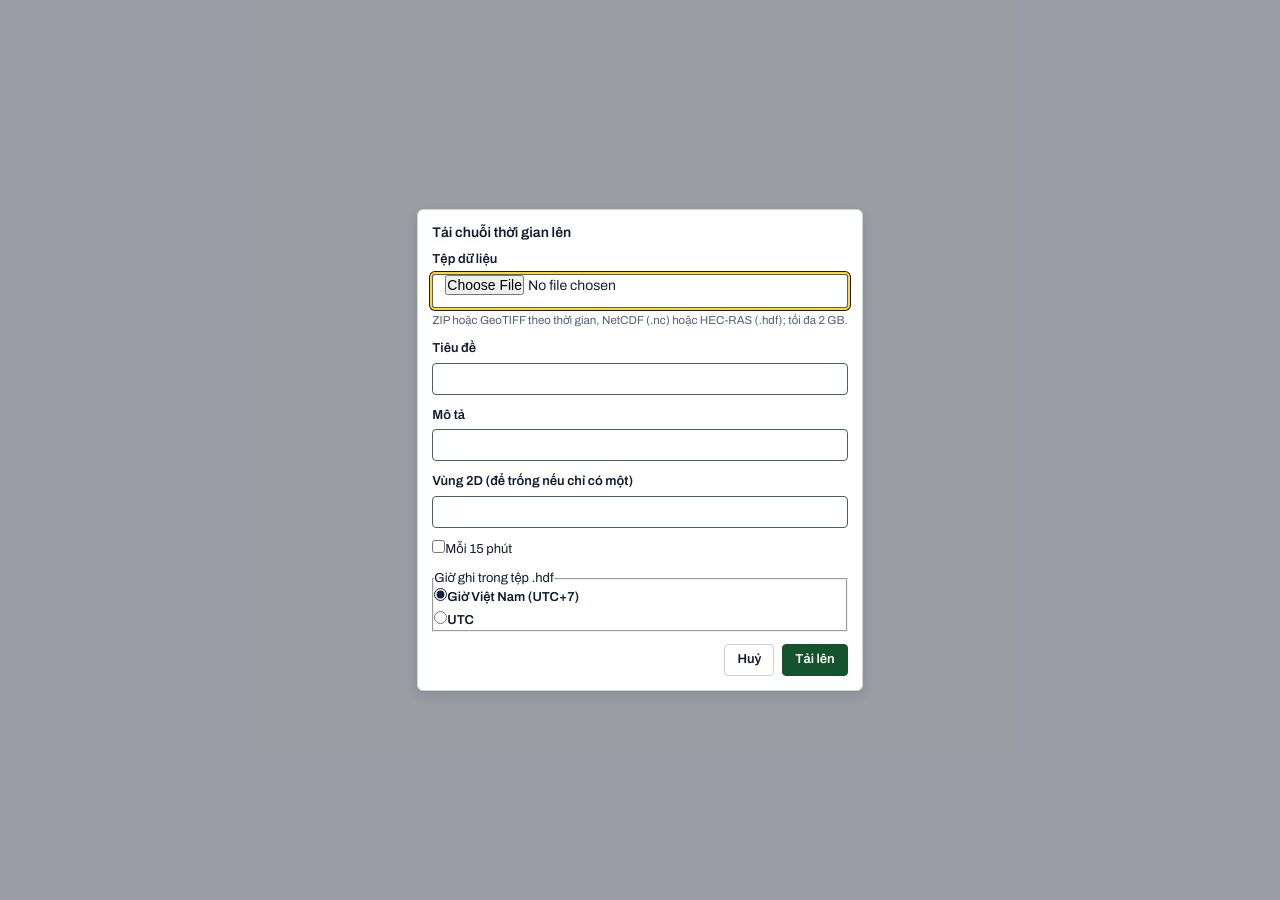
Scenario: TimeseriesUploadDialog › uploads, queues the job with the chosen options, shows progress, then adds the new layer
Earlier steps of the test are not shown.
Type "Lũ" into the field labelled "Tiêu đề".
click(640, 379); type("Lũ")  # box x1=432 y1=363 x2=848 y2=395
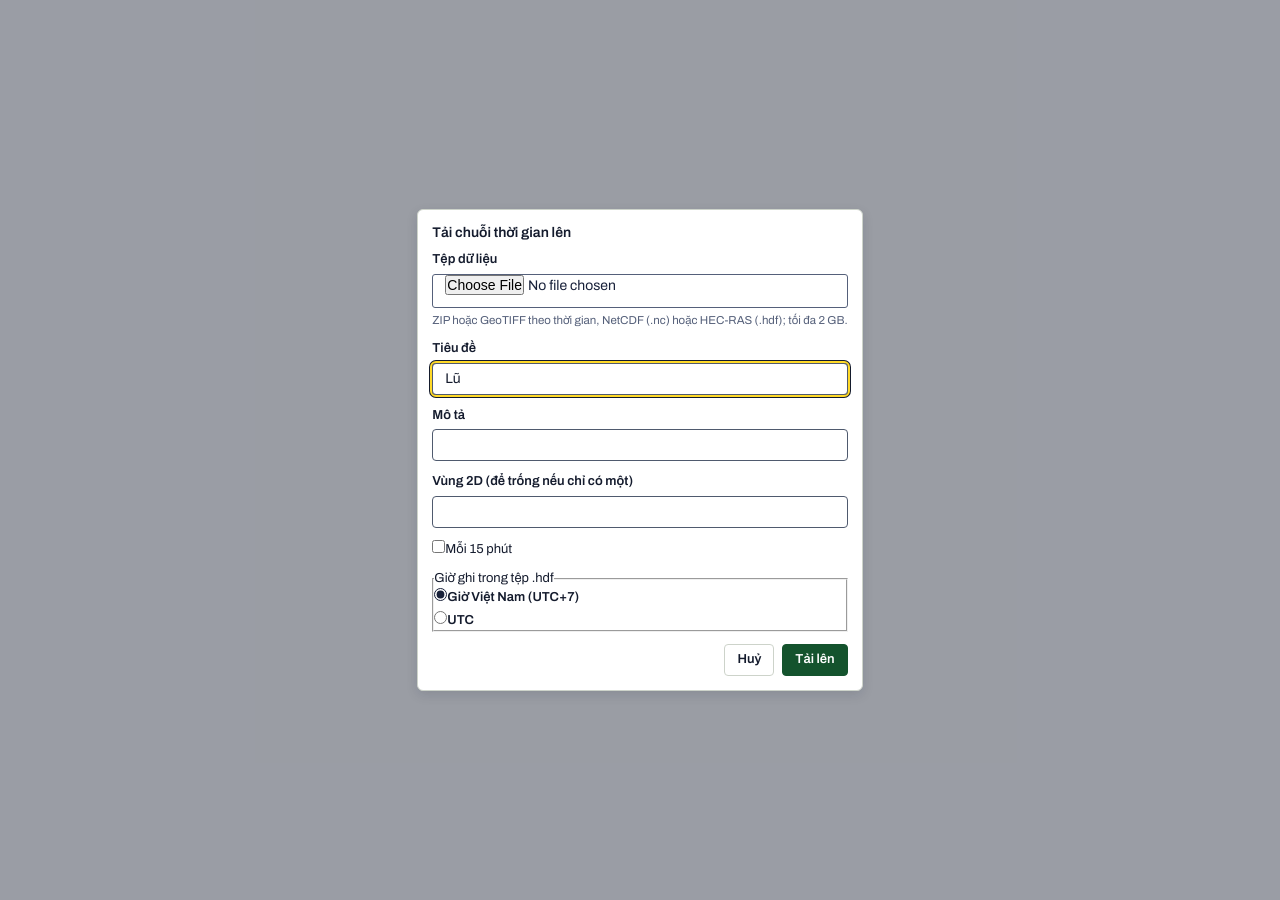
Type "Area1" into the field labelled "Vùng 2D (để trống nếu chỉ có một)".
click(640, 512); type("Area1")  # box x1=432 y1=496 x2=848 y2=528
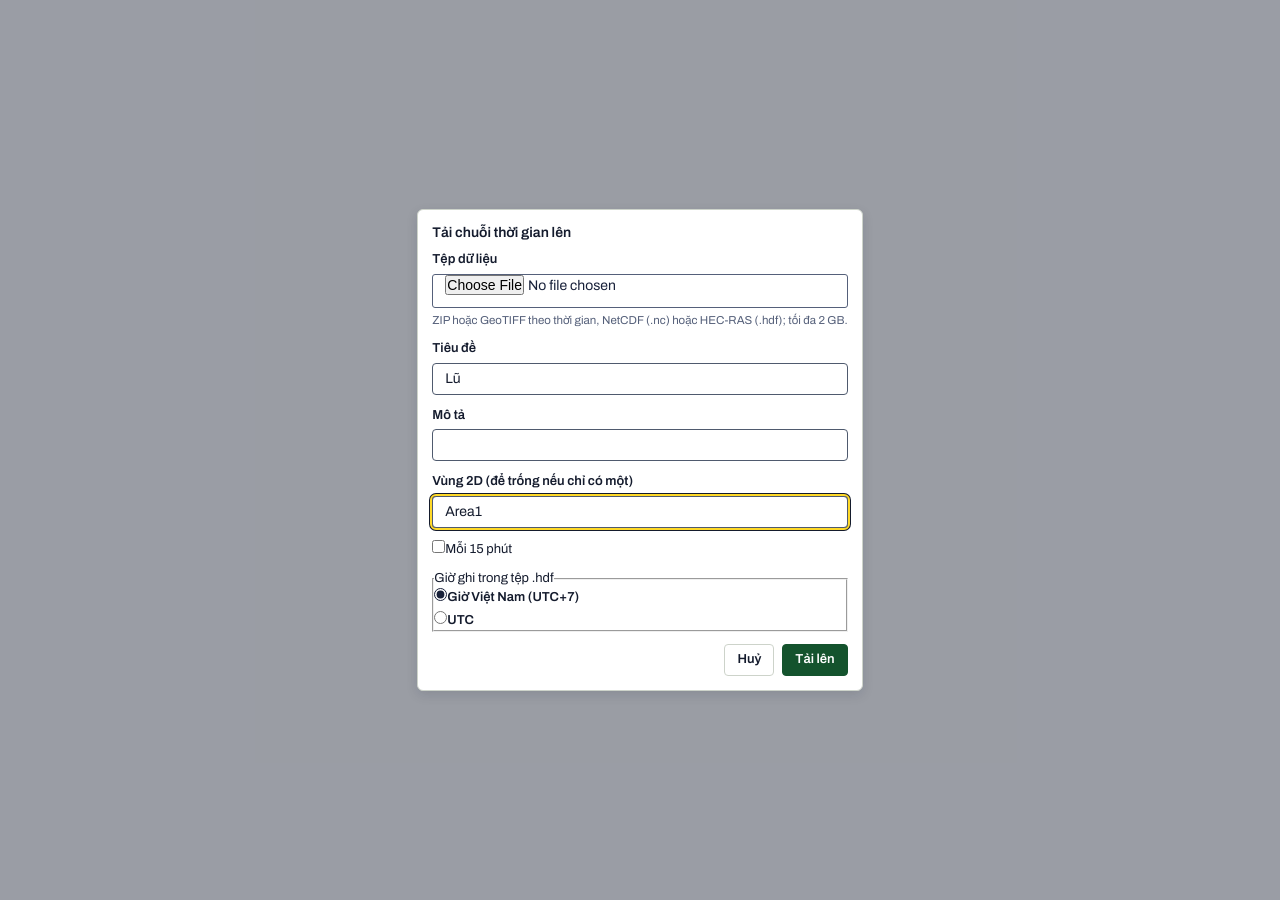
Click the checkbox labelled "Mỗi 15 phút".
click(439, 546)  # box x1=432 y1=540 x2=445 y2=553
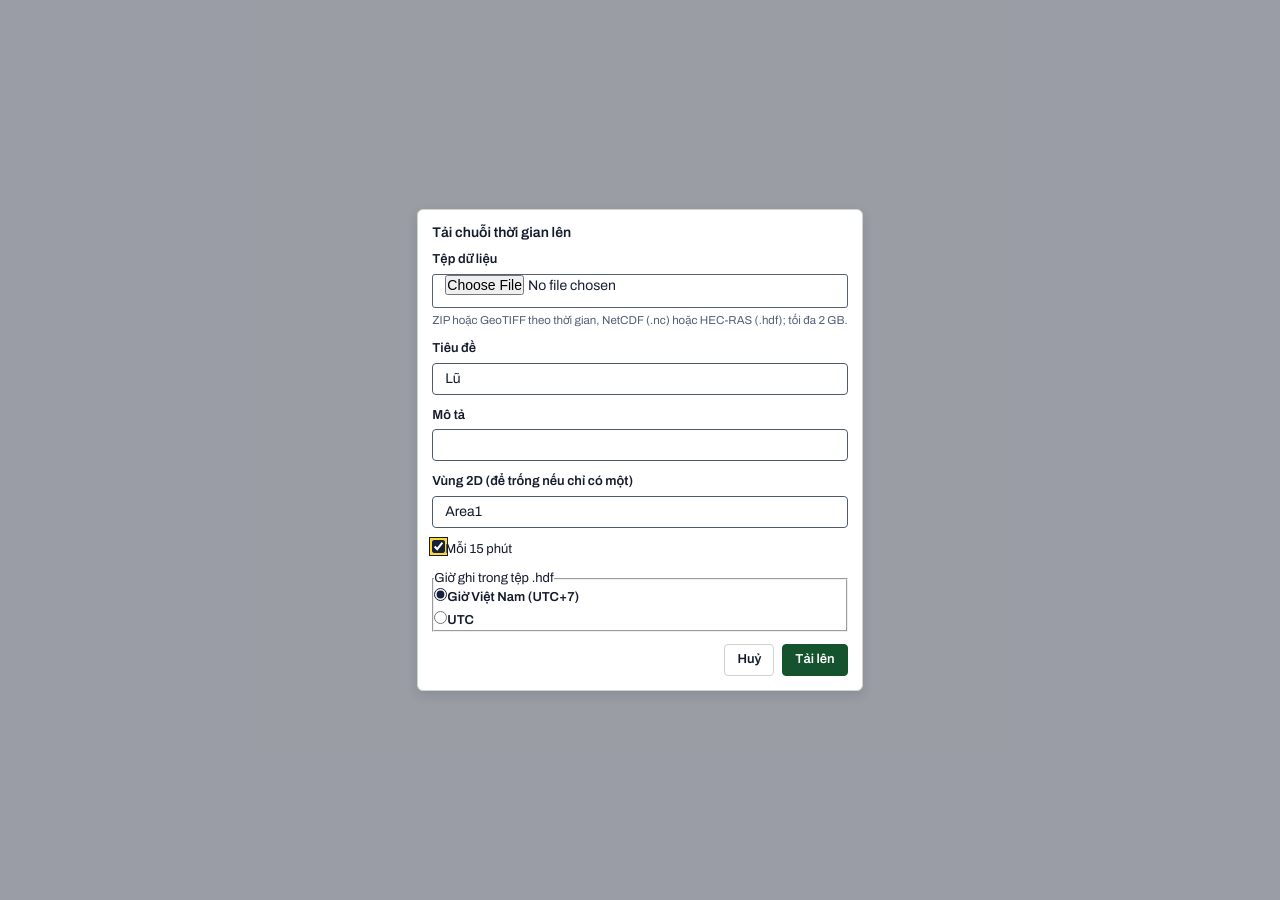
Click the button "Tải lên".
click(815, 660)  # box x1=782 y1=644 x2=848 y2=676
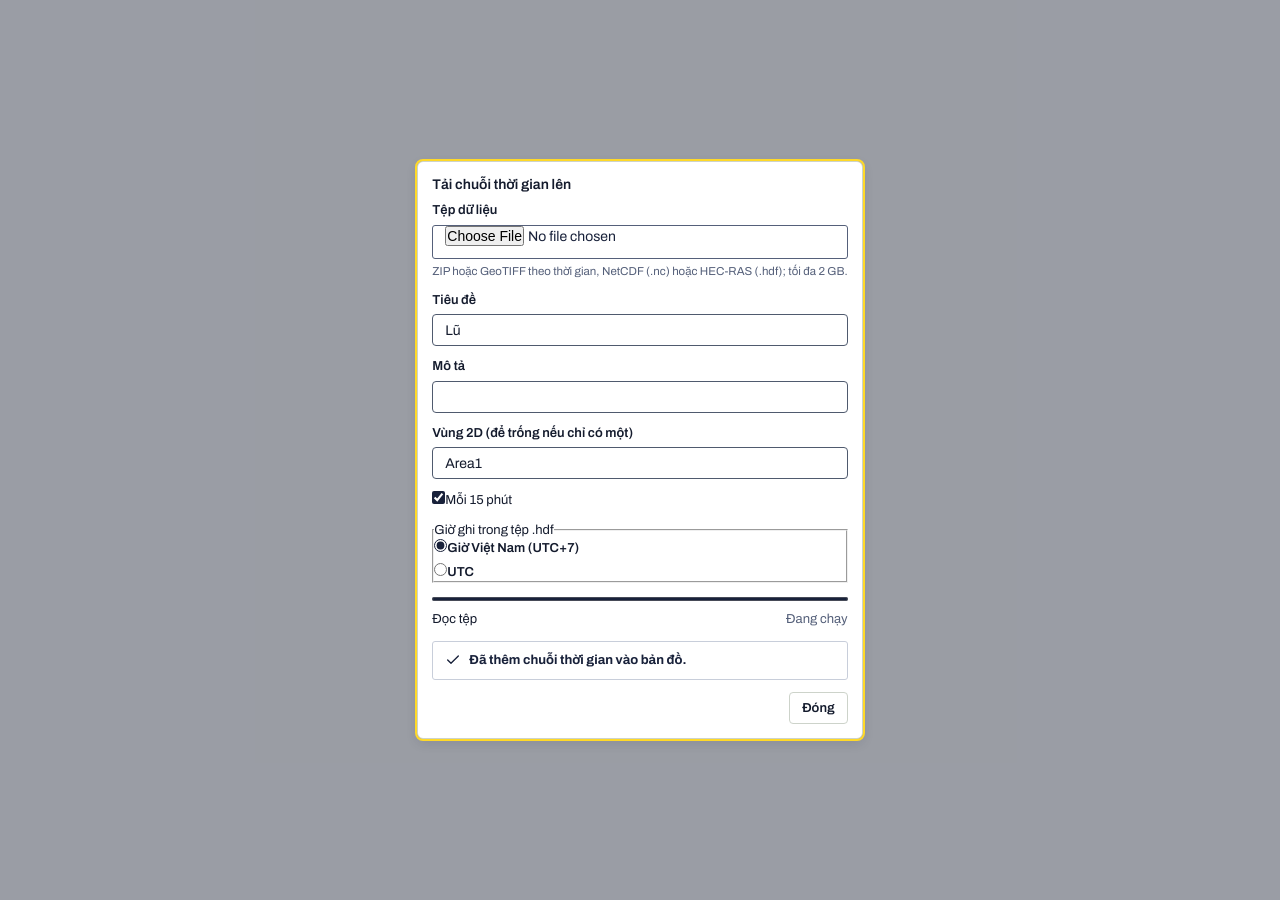
Now the text "Đọc tệp" is shown, box x1=432 y1=611 x2=477 y2=629
Now the text "Đã thêm chuỗi thời gian vào bản đồ." is shown, box x1=469 y1=653 x2=686 y2=667
